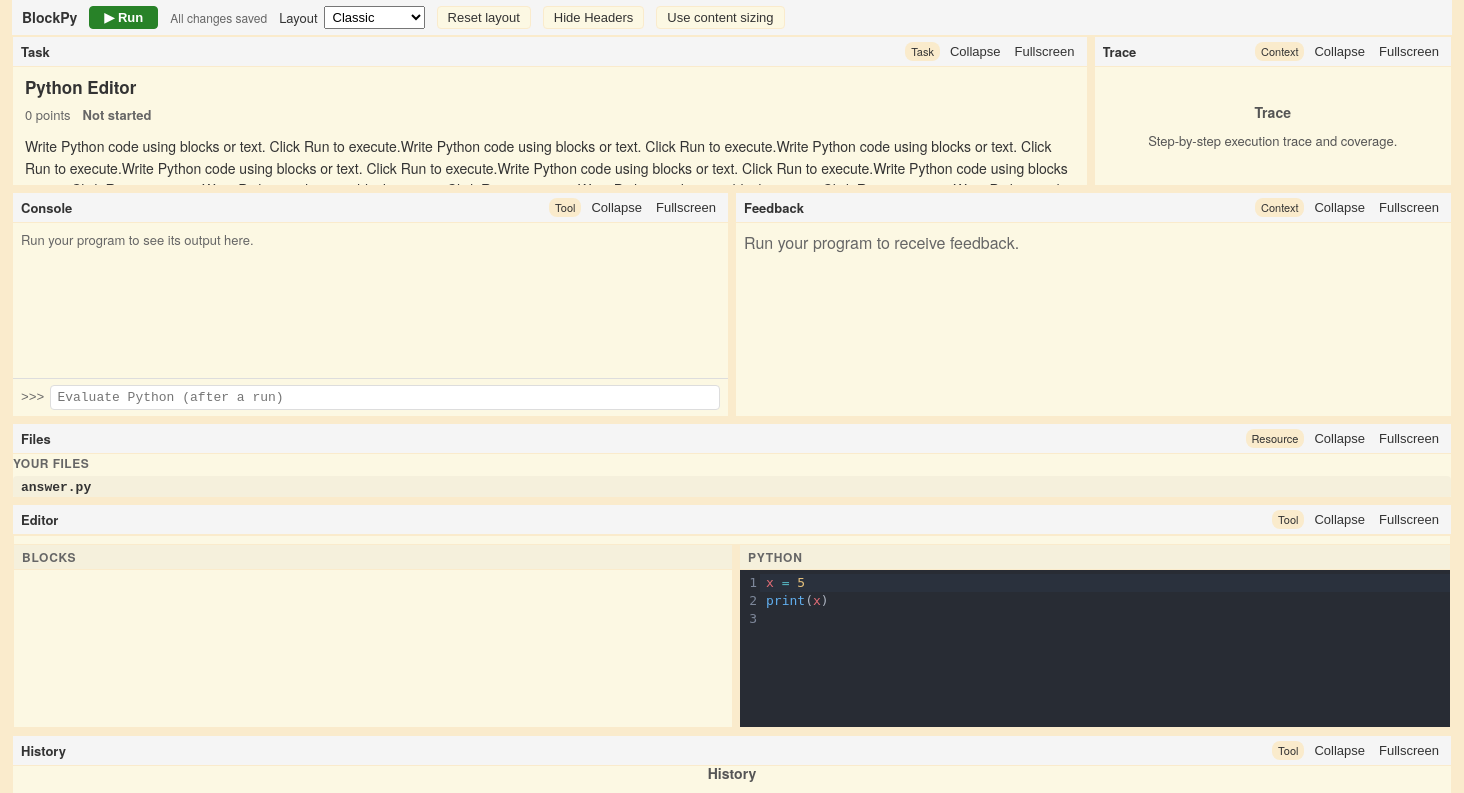
Test case: WorkspaceShell › shows a single panel in fullscreen and exits again
Click the button with aria-label "Fullscreen Feedback" at (1409, 208), box x1=1375 y1=197 x2=1443 y2=218
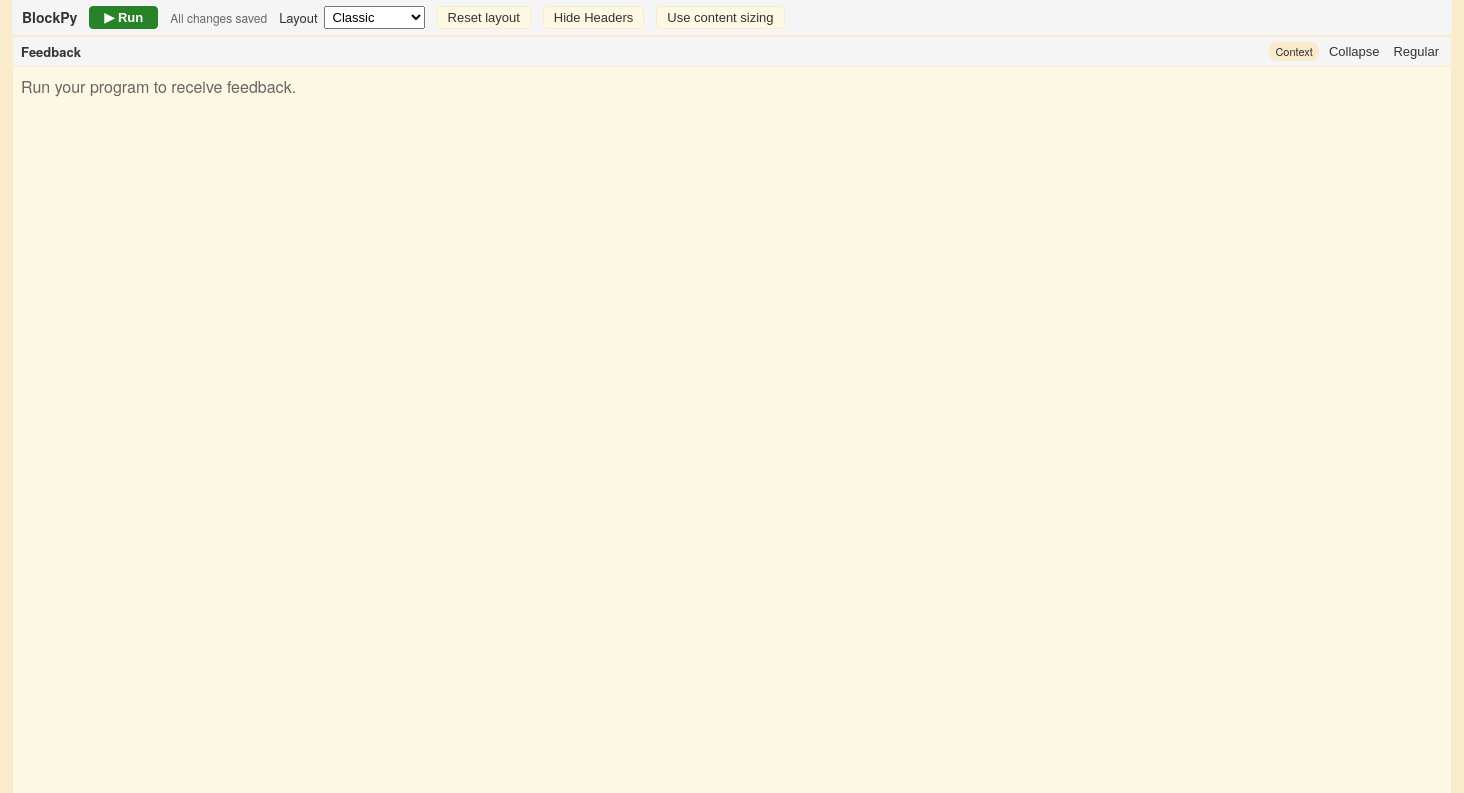
Expected: the heading "Feedback" is shown, x1=21 y1=42 x2=81 y2=61
Result: the heading "Task" is gone
Click the button with aria-label "Exit fullscreen Feedback" at (1416, 52), box x1=1390 y1=41 x2=1443 y2=62
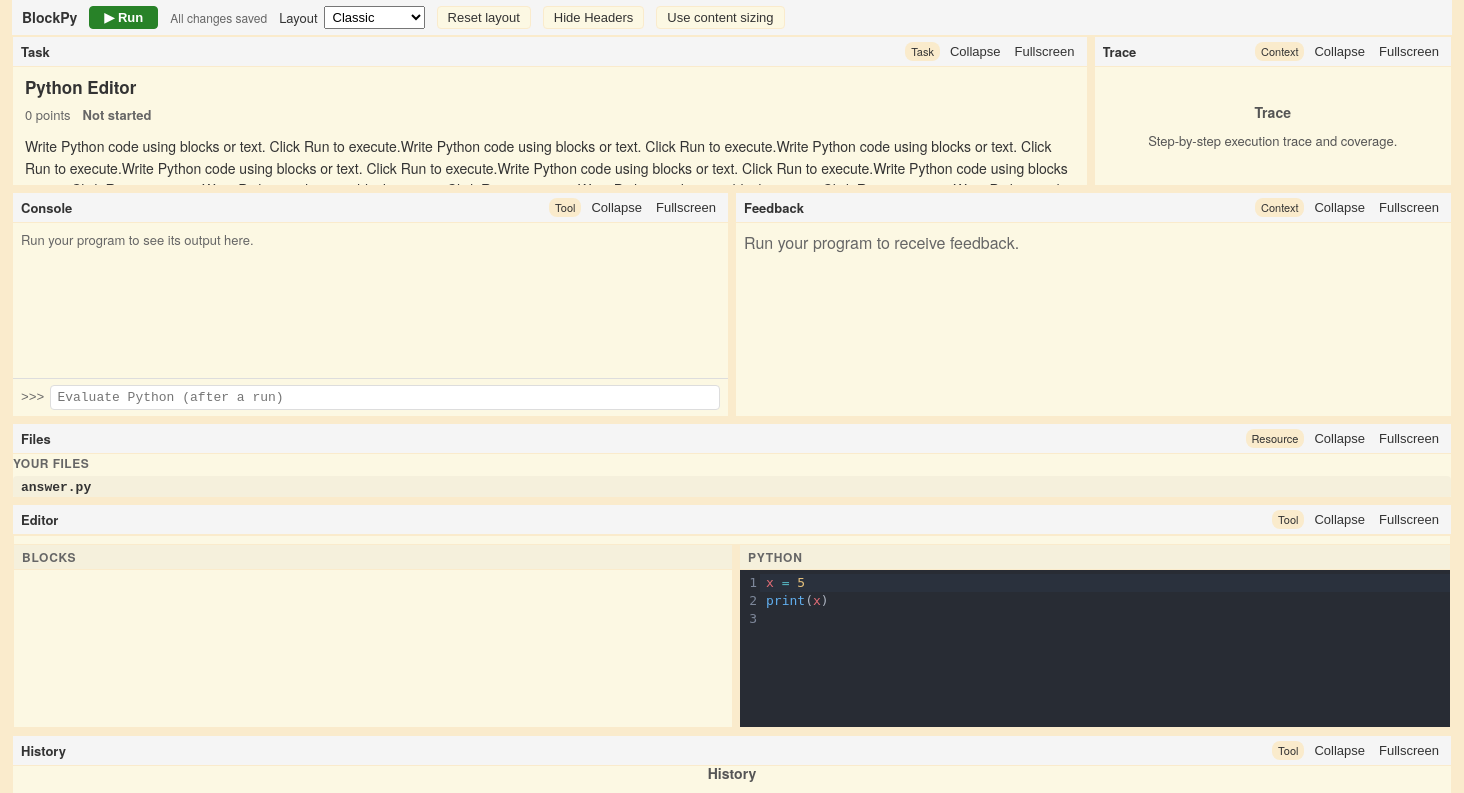
Result: the heading "Task" is shown at x1=21 y1=42 x2=50 y2=61
